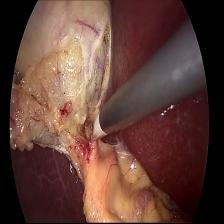Hook: (88, 108, 108, 143)
